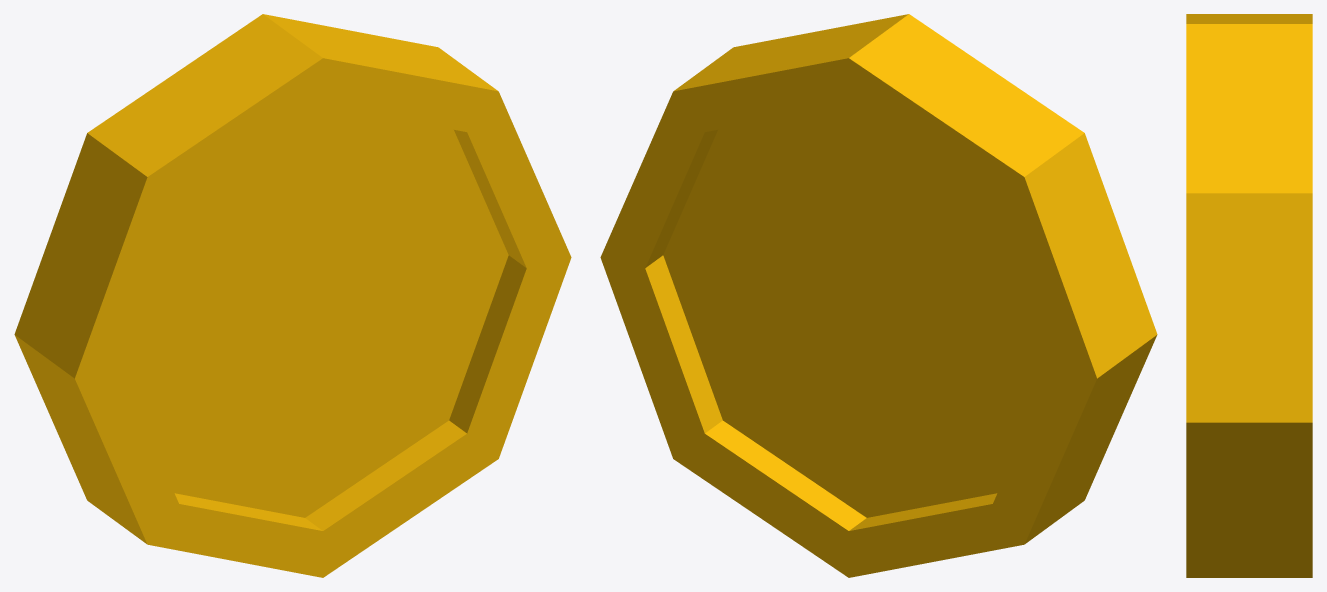
The model's file is Coin.obj.
3 renders of one model, left to right at view 1: azimuth 30°, elevation 25°; view 2: azimuth 150°, elevation 25°; view 3: azimuth 270°, elevation 25°, orthographic. The views are drawn at different scales.
Parts seen in each view (by area): view 1: Coin; view 2: Coin; view 3: Coin.
Part boxes in pixels (x1,y1,x2,y2): Coin: (14, 14, 571, 577); Coin: (600, 14, 1157, 577); Coin: (1186, 14, 1312, 577).
Size of the model in its own units: 0.8294 by 0.8294 by 0.1744.
